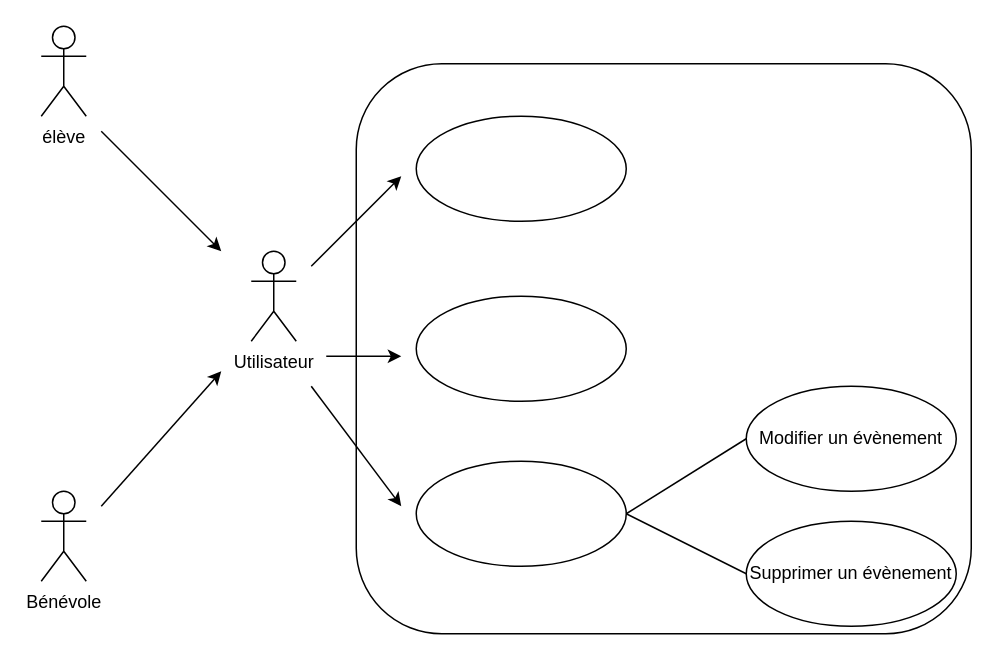
This 998x660 diagram has some shape labels left out. The box of each missing label's shape, as (x1, y1, x2, y2) in pixels:
Afficher le calendrier: (415, 115, 626, 221)
Consulter le détail d'un évènement: (415, 460, 626, 566)
Créer un évènement: (415, 295, 626, 401)
